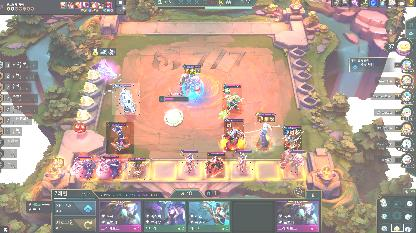1_braum: (285, 150, 307, 178)
1_nomsy: (100, 156, 122, 180), (74, 156, 94, 180)
1_olaf: (207, 152, 225, 178)
1_twitch: (128, 158, 146, 180)
1_xayah: (234, 150, 254, 174), (180, 150, 198, 174)
2_braum: (180, 64, 204, 102)
2_jax: (222, 84, 242, 114)
2_leona: (112, 83, 140, 115)
2_olaf: (224, 119, 244, 151)
2_twitch: (284, 126, 302, 150)
2_varus: (106, 122, 134, 154)
3_yone: (254, 113, 276, 151)
